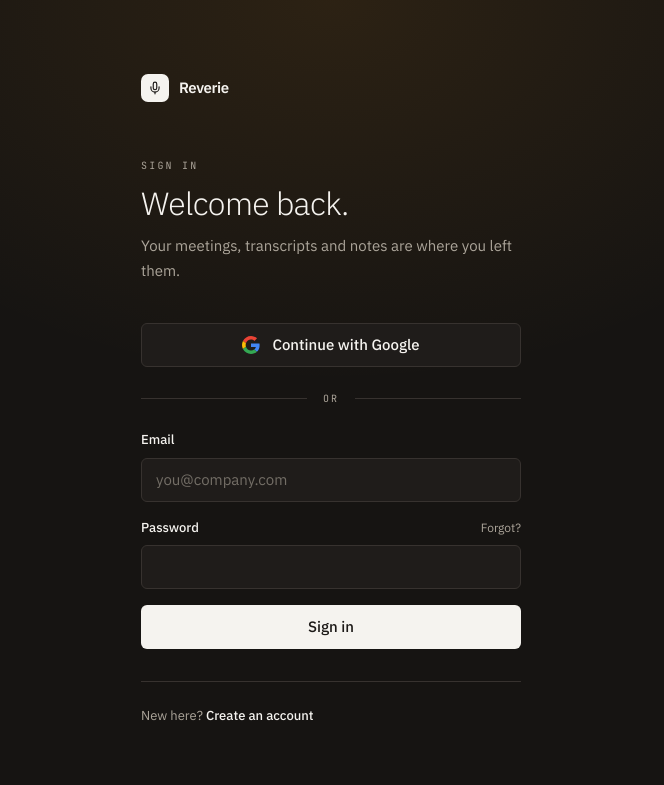
Scenario: signing in › says what went wrong in Reverie's words
Check: the button "Sign in" is shown, box x1=141 y1=605 x2=521 y2=649
Step 1. Type "ada@example.com" into the field labelled "Email" → (331, 480), box x1=141 y1=458 x2=521 y2=502
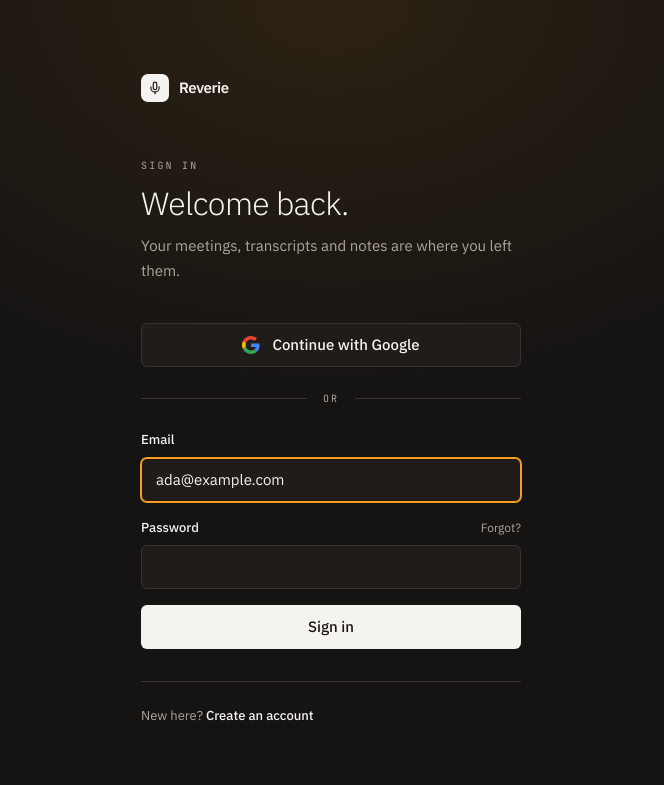
Step 2. Type "hunter22" into the password field labelled "Password" → (331, 567), box x1=141 y1=545 x2=521 y2=589
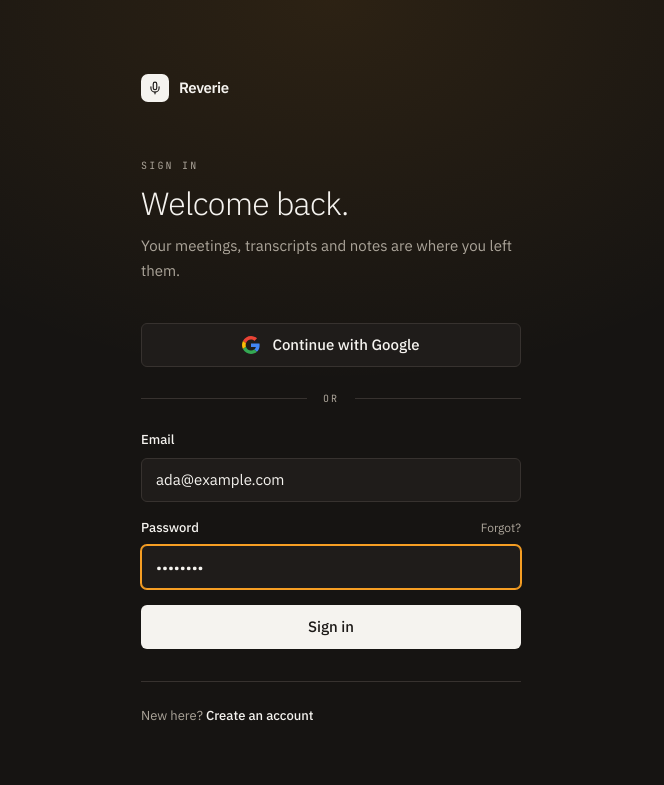
Step 3. Click the button "Sign in" → click(331, 627), box x1=141 y1=605 x2=521 y2=649
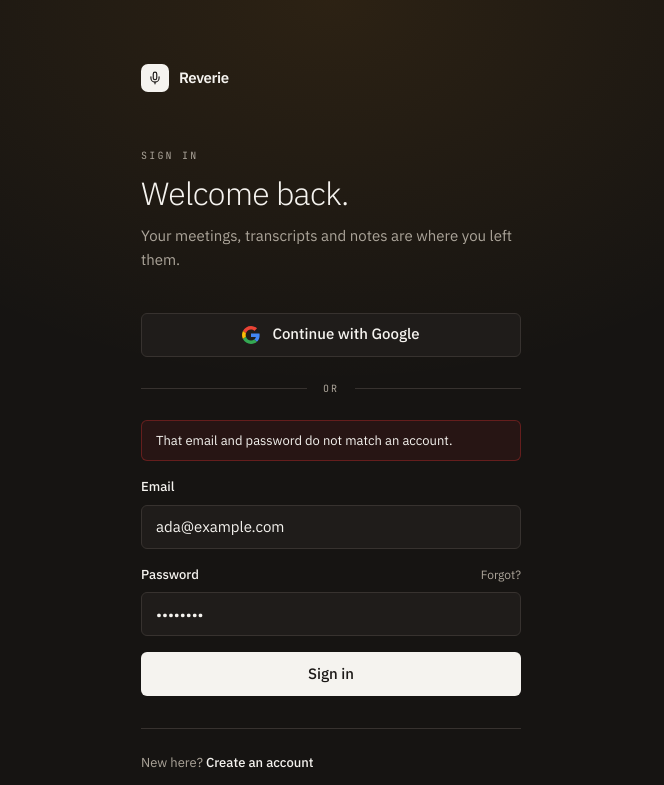
Check: the message reads "That email and password do not match an account.", box x1=156 y1=432 x2=452 y2=448
